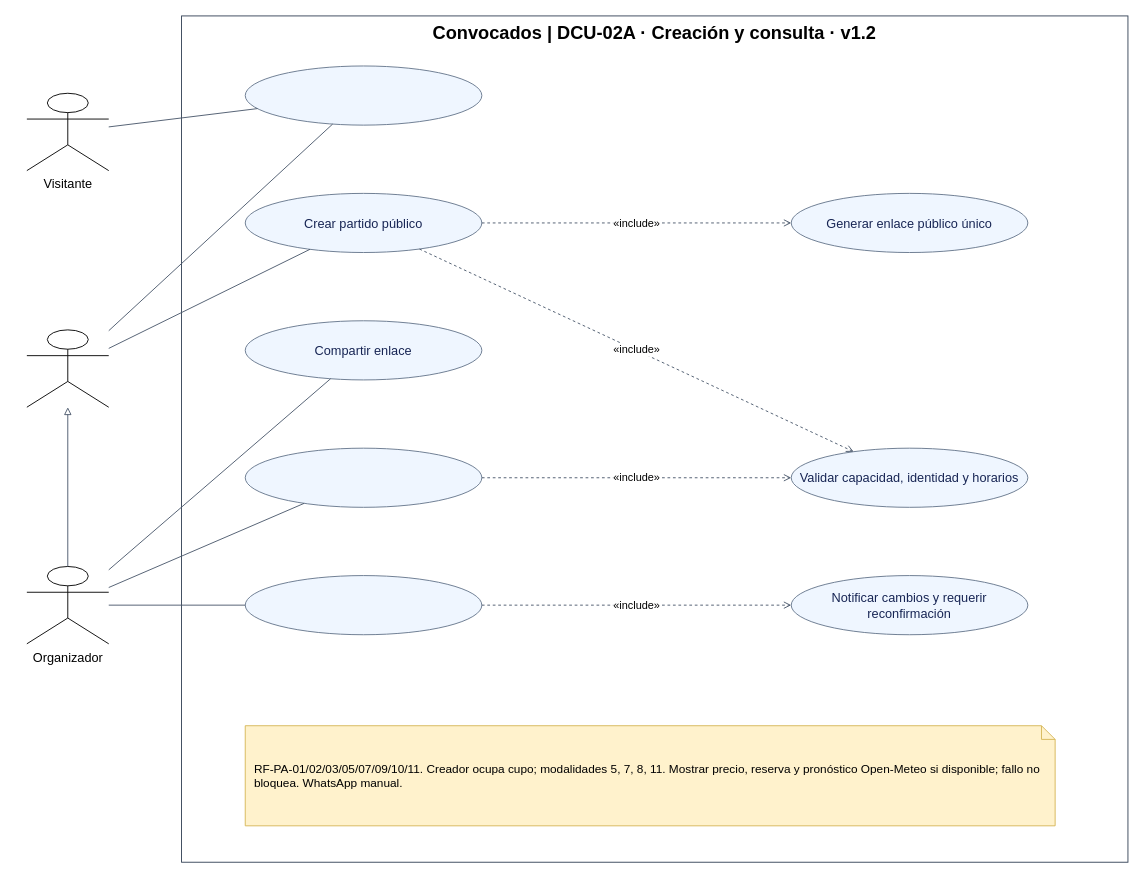
Some shapes in this 1144 by 878 pixel diagram are drawn without their labels. Each missing label, with the centre of its shape:
"Agregar amigos y asignar equipos" goes at point 363,477.
"Consultar partidos y pronóstico" goes at point 363,95.
"Modificar cancha, fecha u horario" goes at point 363,605.
"Usuario registrado" goes at point 67,368.
